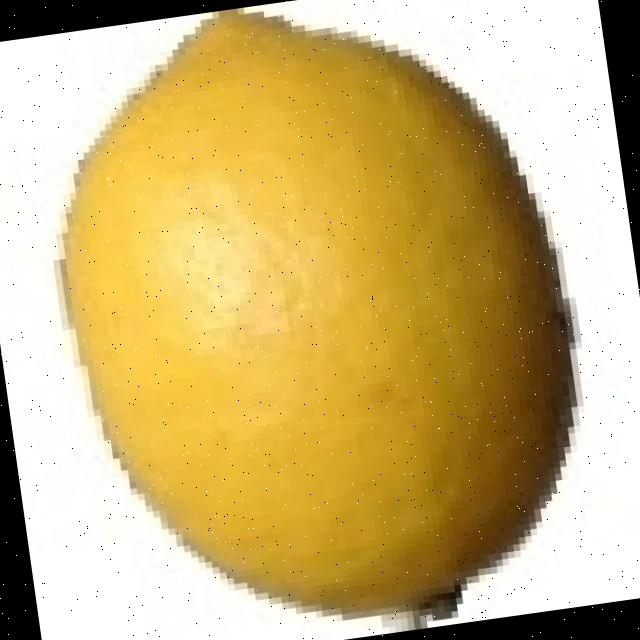lemon: (64, 8, 573, 614)
